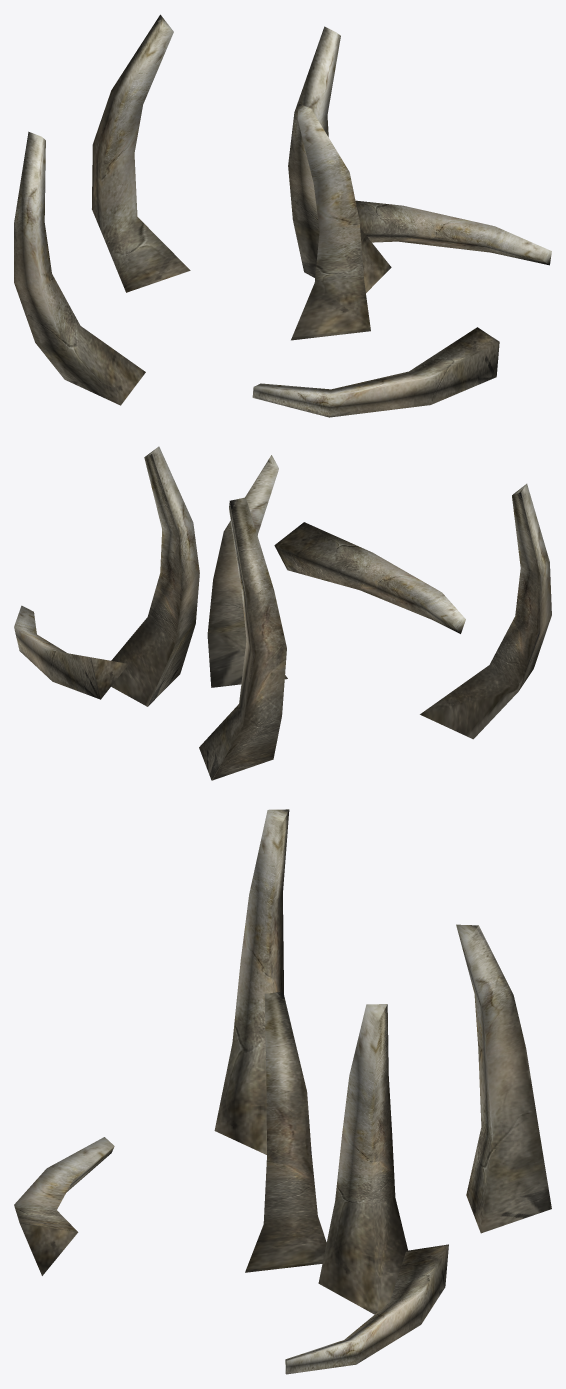
Rendered from D_jizhuigu002.fbx.
3 renders of one model, top to bottom at view 1: azimuth 30°, elevation 25°; view 2: azimuth 150°, elevation 25°; view 3: azimuth 270°, elevation 25°, orthographic. The views are drawn at different scales.
Visible parts, largest first — view 1: D_jizhuigu002; view 2: D_jizhuigu002; view 3: D_jizhuigu002.
Part boxes in pixels (bbox=[...]): D_jizhuigu002: bbox=[14, 14, 551, 417]; D_jizhuigu002: bbox=[14, 446, 551, 780]; D_jizhuigu002: bbox=[14, 809, 551, 1374].
Bounding box in the file's own units: 92.53 × 43.39 × 72.51.
